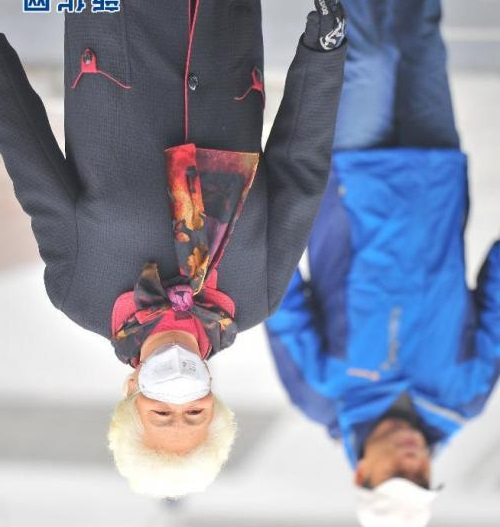person: (3, 1, 352, 505), (270, 6, 494, 527)
